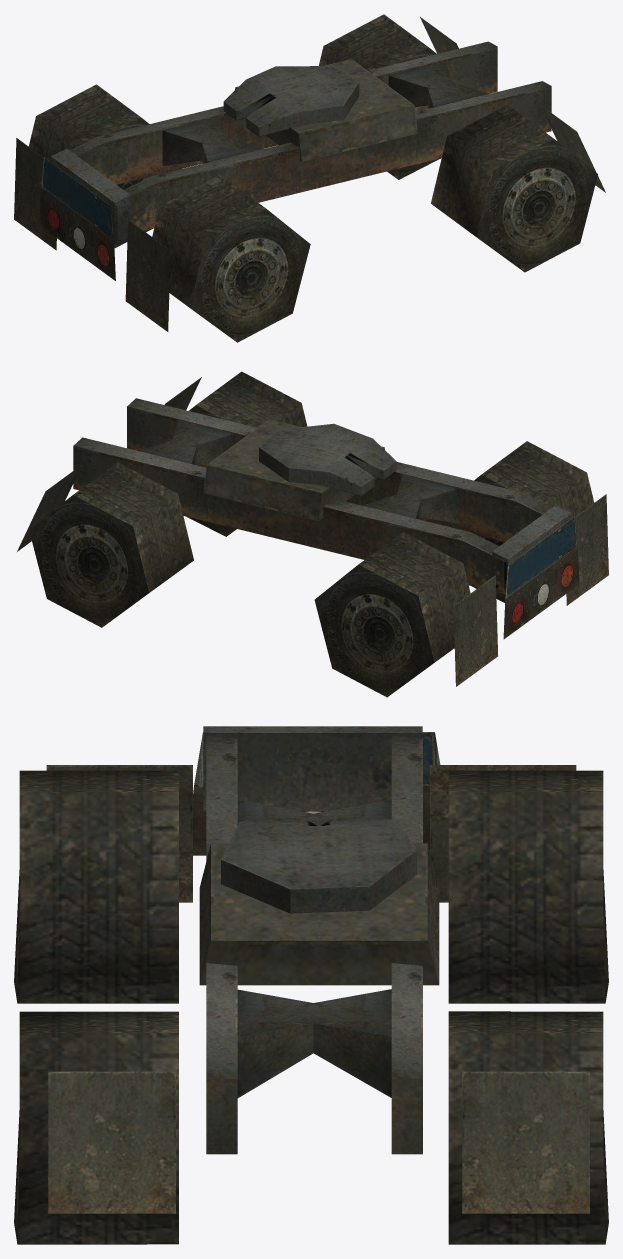
File: Cover_Truck02a_lod2.glb
3 views of the same model, one above another, from view 1: azimuth 30°, elevation 25°; view 2: azimuth 150°, elevation 25°; view 3: azimuth 270°, elevation 25° (orthographic). The views are drawn at different scales.
Parts seen in each view (by area): view 1: xiutz_truck_02a_lod2; view 2: xiutz_truck_02a_lod2; view 3: xiutz_truck_02a_lod2.
Boxes of the visible parts, bbox=[...] form: xiutz_truck_02a_lod2: bbox=[14, 14, 605, 342]; xiutz_truck_02a_lod2: bbox=[17, 371, 608, 697]; xiutz_truck_02a_lod2: bbox=[14, 726, 608, 1244].
Bounding box in the file's own units: 6.64 × 2.14 × 4.4.
Materials: 1 (1 with a texture image).
